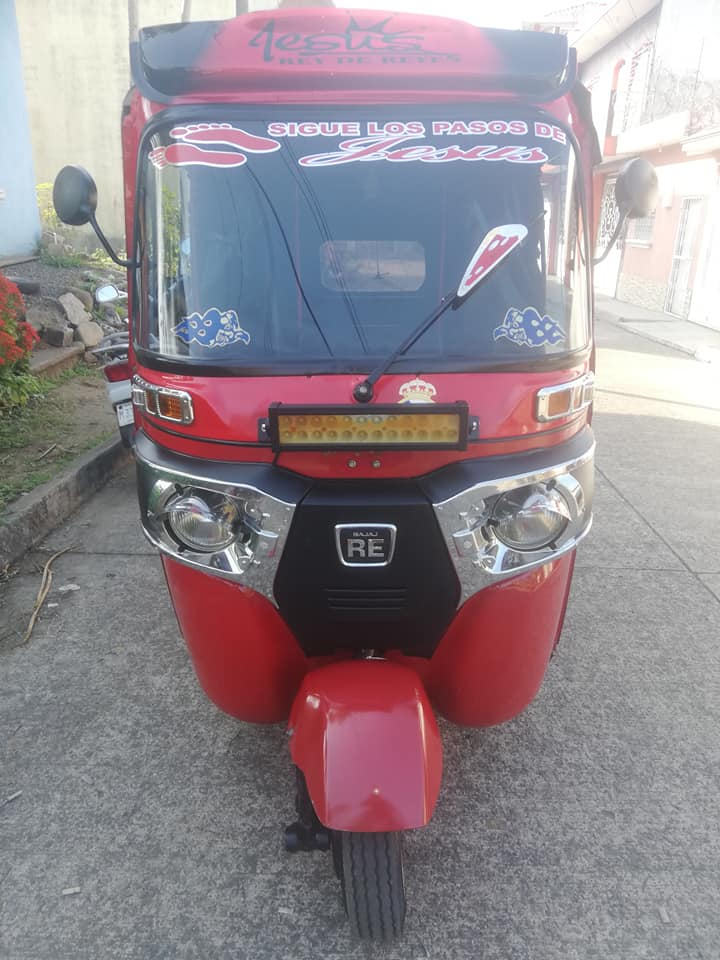mototaxi: (65, 5, 660, 960)
